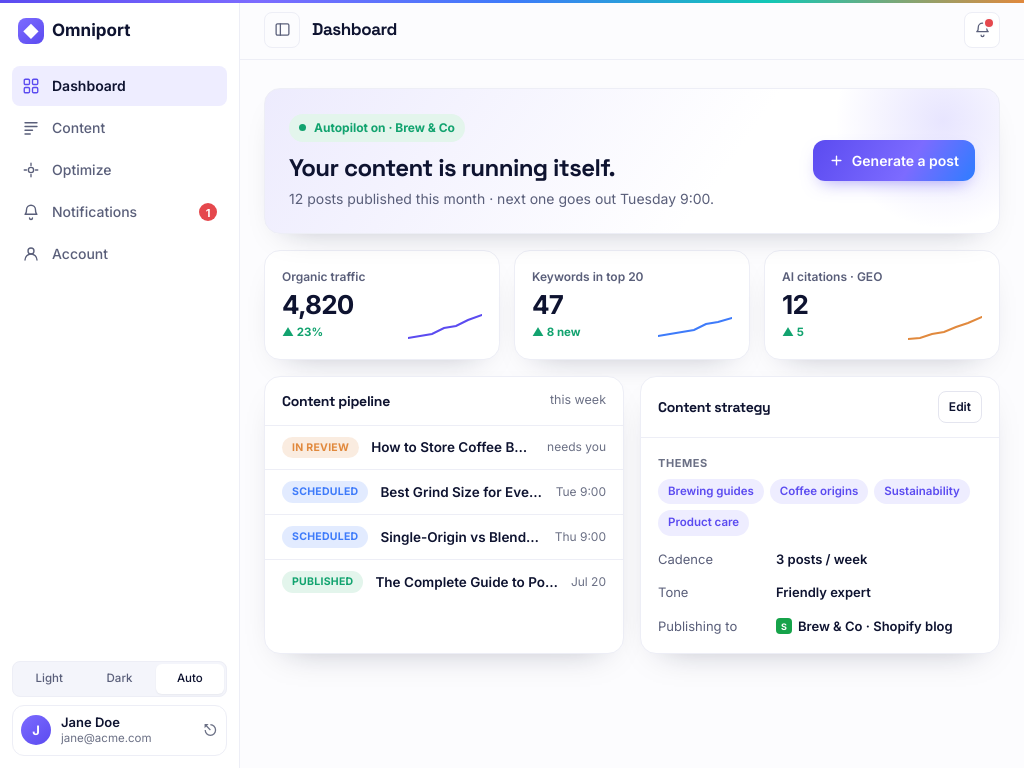
Scenario: routing › toggles the collapsible sidebar
Check: the text "Dashboard" is shown, box [52, 76, 126, 96]
Click the button named "collapse sidebar" at (282, 30), box [264, 12, 300, 48]
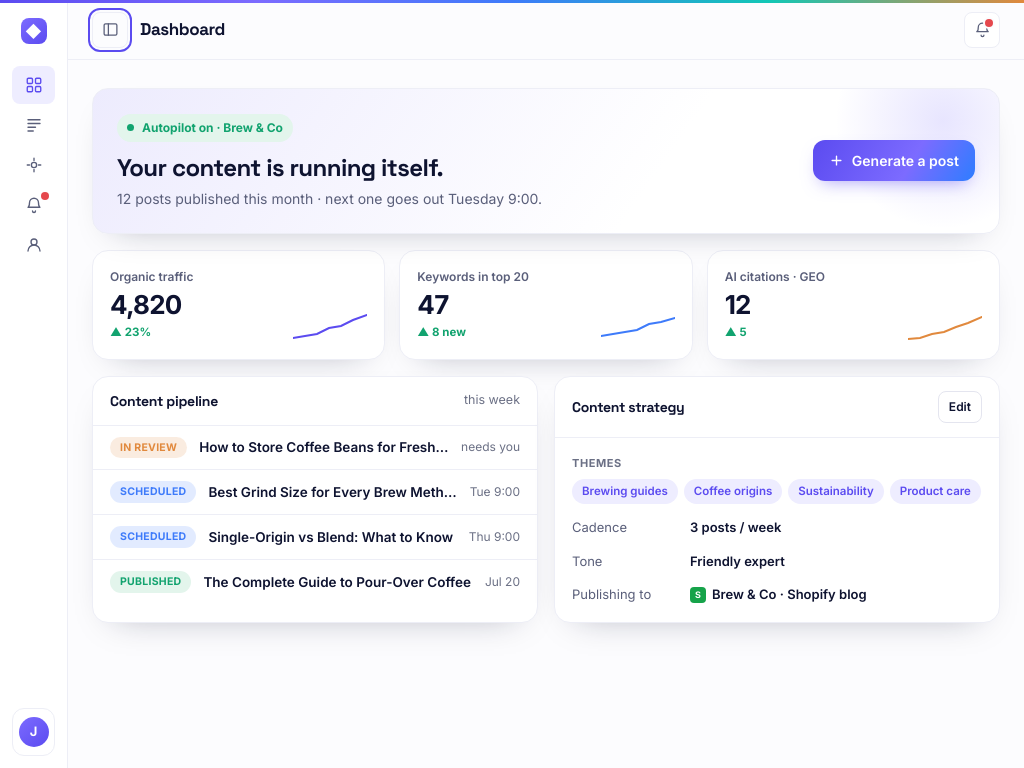
Check: the button named "expand sidebar" is shown, box [92, 12, 128, 48]
